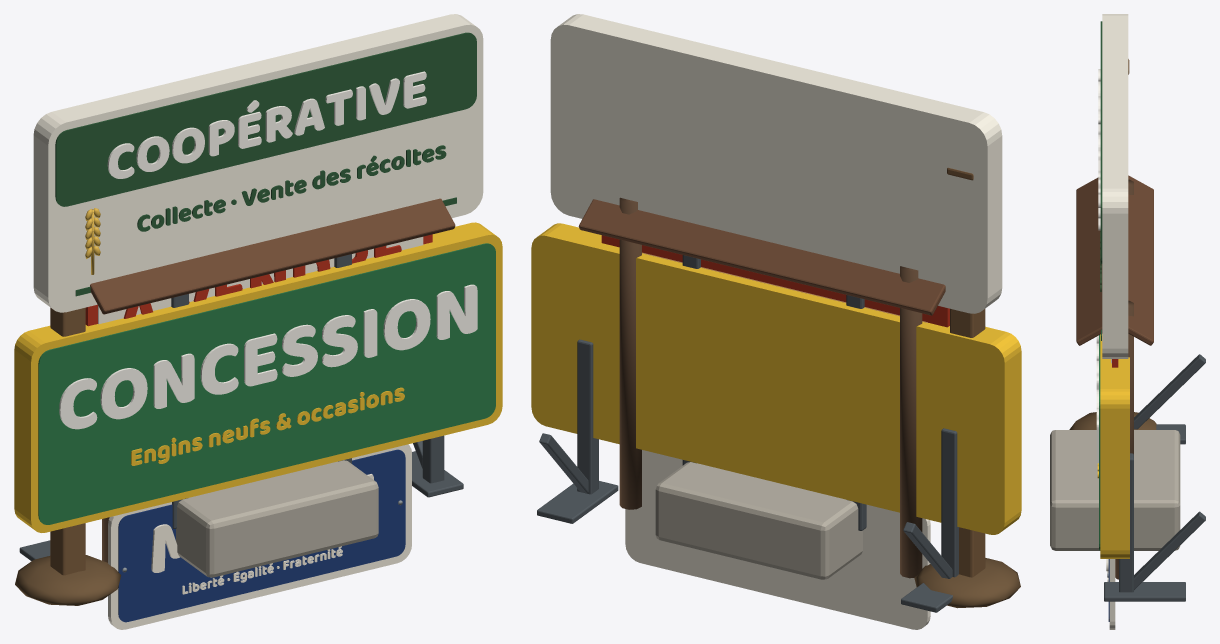
The model's file is pancartes.glb.
The picture shows the model from 3 angles, left to right: view 1: azimuth 30°, elevation 25°; view 2: azimuth 150°, elevation 25°; view 3: azimuth 270°, elevation 25°; orthographic projection. The views are drawn at different scales.
Parts seen in each view (by area): view 1: enseigne-concession:concession-vert, enseigne-cooperative:caisson-creme, enseigne-cooperative:coop-vert, enseigne-concession:concession-jaune, enseigne-cooperative:beton, plaque-mairie:email-bleu, enseigne-concession:lettre-blanche, enseigne-rucher:bardeau, enseigne-cooperative:lettre-blanche, plaque-mairie:email-blanc, pancarte-vente:terre, enseigne-concession:acier-laque (+4 smaller); view 2: enseigne-concession:concession-jaune, enseigne-cooperative:caisson-creme, enseigne-cooperative:beton, plaque-mairie:email-blanc, enseigne-rucher:bardeau, enseigne-rucher:ecorce, enseigne-concession:acier-laque, pancarte-vente:terre, pancarte-vente:email-rouge, pancarte-vente:bois-poteau, enseigne-cooperative:acier-laque; view 3: enseigne-cooperative:beton, enseigne-cooperative:caisson-creme, enseigne-rucher:bardeau, enseigne-concession:concession-jaune, enseigne-concession:acier-laque, enseigne-cooperative:coop-vert, enseigne-rucher:ecorce, pancarte-vente:terre, enseigne-cooperative:lettre-blanche, enseigne-concession:concession-vert, plaque-mairie:email-blanc, enseigne-concession:lettre-blanche.
Part boxes in pixels (box(x1,y1,x2,y2)): enseigne-concession:concession-vert: box(38, 243, 495, 524); enseigne-cooperative:caisson-creme: box(33, 14, 483, 312); enseigne-cooperative:coop-vert: box(55, 32, 476, 296); enseigne-concession:concession-jaune: box(14, 222, 502, 532); enseigne-cooperative:beton: box(176, 460, 378, 577); plaque-mairie:email-bleu: box(118, 449, 405, 622); enseigne-concession:lettre-blanche: box(59, 284, 477, 429); enseigne-rucher:bardeau: box(90, 198, 455, 314); enseigne-cooperative:lettre-blanche: box(107, 71, 426, 178); plaque-mairie:email-blanc: box(108, 444, 411, 629); pancarte-vente:terre: box(15, 555, 121, 605); enseigne-concession:acier-laque: box(19, 435, 463, 560); enseigne-concession:concession-jaune: box(531, 223, 1021, 534); enseigne-cooperative:caisson-creme: box(550, 14, 1002, 313); enseigne-cooperative:beton: box(655, 462, 862, 579); plaque-mairie:email-blanc: box(625, 450, 930, 629); enseigne-rucher:bardeau: box(578, 199, 945, 315); enseigne-rucher:ecorce: box(619, 197, 922, 578); enseigne-concession:acier-laque: box(537, 339, 958, 612); pancarte-vente:terre: box(914, 558, 1020, 608); pancarte-vente:email-rouge: box(601, 235, 949, 327); pancarte-vente:bois-poteau: box(947, 167, 985, 577); enseigne-cooperative:acier-laque: box(682, 255, 866, 530); enseigne-cooperative:beton: box(1050, 430, 1180, 550); enseigne-cooperative:caisson-creme: box(1102, 14, 1128, 358); enseigne-rucher:bardeau: box(1076, 175, 1153, 345); enseigne-concession:concession-jaune: box(1097, 334, 1129, 558); enseigne-concession:acier-laque: box(1104, 354, 1205, 601); enseigne-cooperative:coop-vert: box(1100, 21, 1102, 340); enseigne-rucher:ecorce: box(1115, 179, 1133, 579); pancarte-vente:terre: box(1069, 412, 1156, 429); enseigne-cooperative:lettre-blanche: box(1098, 69, 1100, 230); enseigne-concession:concession-vert: box(1099, 335, 1100, 550); plaque-mairie:email-blanc: box(1106, 559, 1115, 629); enseigne-concession:lettre-blanche: box(1096, 335, 1098, 463).
Bounding box in the file's own units: 2.6 × 2.77 × 0.8371.
